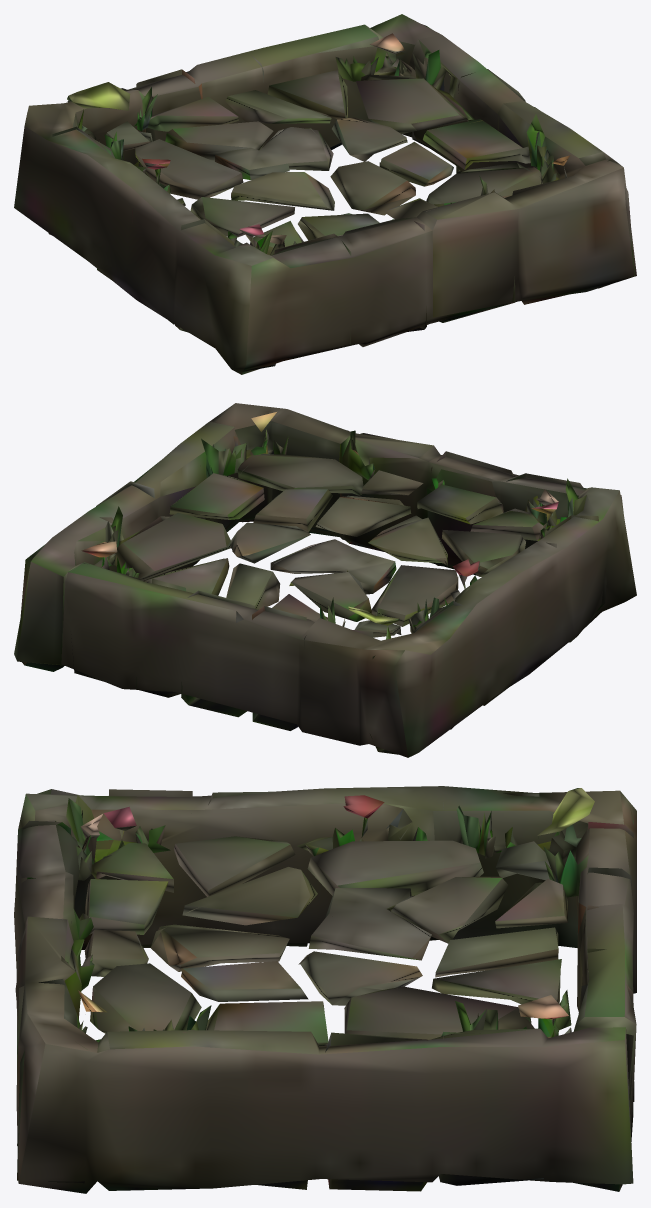
The model's file is tile_stone.glb.
The picture shows the model from 3 angles, top to bottom: view 1: azimuth 30°, elevation 25°; view 2: azimuth 150°, elevation 25°; view 3: azimuth 270°, elevation 25°; orthographic projection. The views are drawn at different scales.
Size of the model in its own units: 1 by 0.2971 by 0.9784.
Materials: 1 (1 with a texture image).
